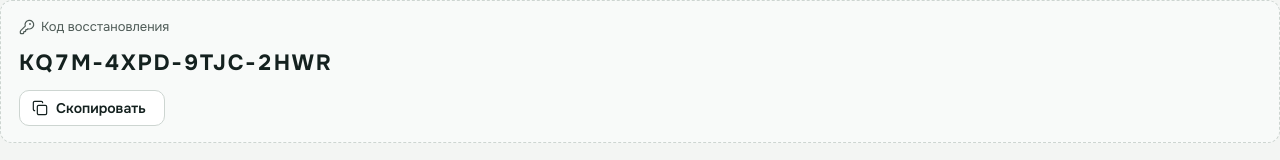
AUTH-05: показ кода восстановления › код виден с подписью; «Скопировать» кладёт его в буфер обмена
Expected: the text "Код восстановления" is shown, [19,17,169,36]
Expected: the text "KQ7M-4XPD-9TJC-2HWR" is shown, [19,46,333,80]
Click the button "Скопировать".
click(92, 108)  # box [19,90,165,126]
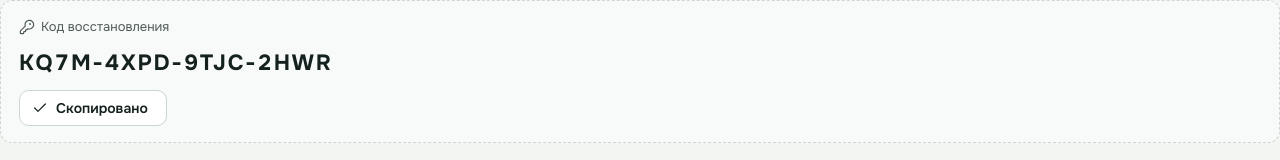
Result: the button "Скопировано" is shown at [19,90,167,126]
